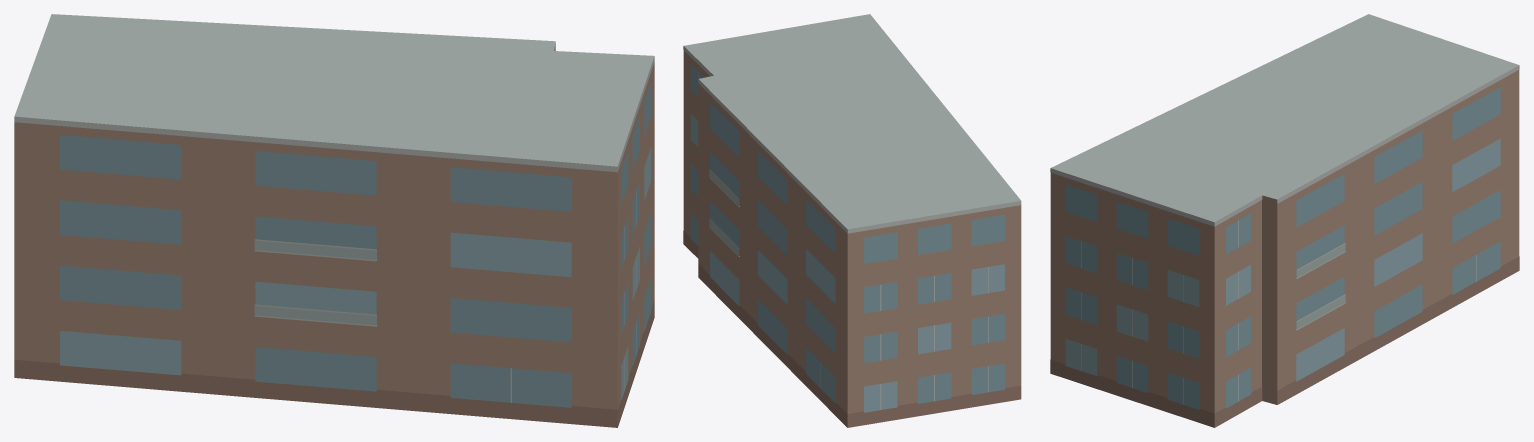
The model's file is survey-upis-32808038.glb.
The picture shows the model from 3 angles, left to right: view 1: azimuth 30°, elevation 25°; view 2: azimuth 150°, elevation 25°; view 3: azimuth 270°, elevation 25°; orthographic projection. The views are drawn at different scales.
Parts seen in each view (by area): view 1: survey-upis-32808038.tmp; view 2: survey-upis-32808038.tmp; view 3: survey-upis-32808038.tmp.
Boxes of the visible parts, x1,y1,x2,y2 form: survey-upis-32808038.tmp: (14,14,654,427); survey-upis-32808038.tmp: (683,14,1021,427); survey-upis-32808038.tmp: (1050,14,1519,427).
Bounding box in the file's own units: 24.79 × 11.4 × 23.58.
